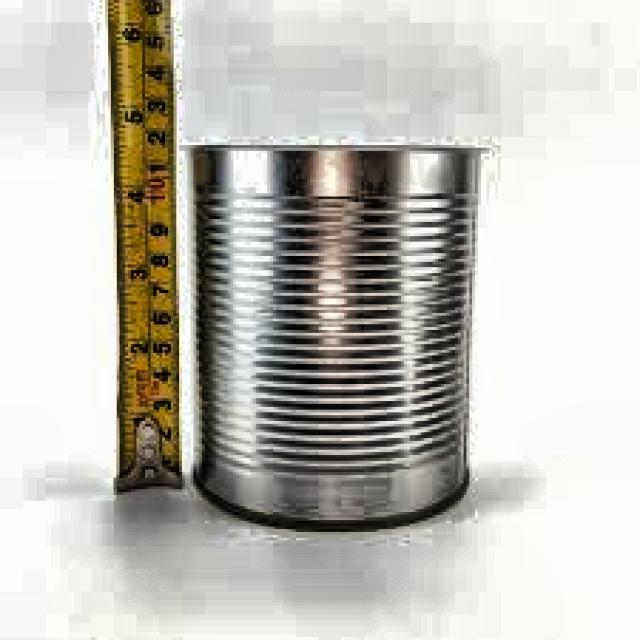can: (174, 136, 492, 540)
